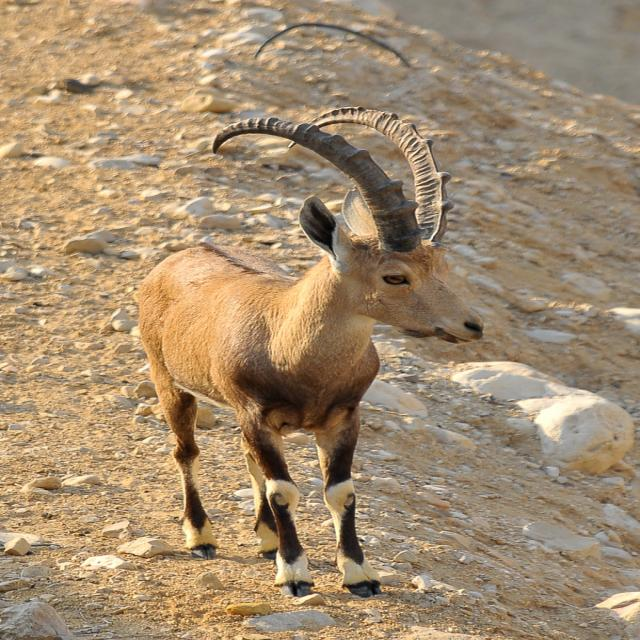Goat: (134, 106, 484, 597)
